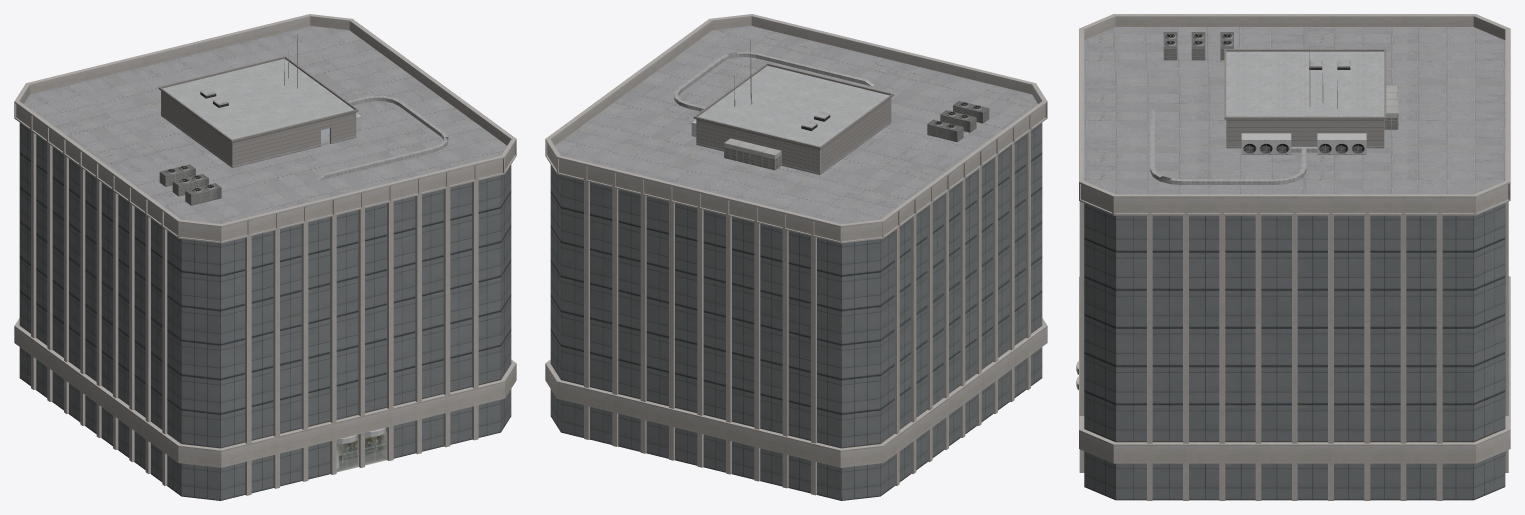
The model's file is office-l4.glb.
The picture shows the model from 3 angles, left to right: view 1: azimuth 30°, elevation 25°; view 2: azimuth 150°, elevation 25°; view 3: azimuth 270°, elevation 25°; orthographic projection. The views are drawn at different scales.
Visible parts, largest first — view 1: AIT01W2W8_AIT01W2W8_0; view 2: AIT01W2W8_AIT01W2W8_0; view 3: AIT01W2W8_AIT01W2W8_0.
Part boxes in pixels (left/top/right/bottom): AIT01W2W8_AIT01W2W8_0: left=14, top=14, right=516, bottom=500; AIT01W2W8_AIT01W2W8_0: left=545, top=14, right=1047, bottom=500; AIT01W2W8_AIT01W2W8_0: left=1076, top=14, right=1510, bottom=500.
Size of the model in its own units: 32.8 by 32.73 by 33.
1 material, 1 textured.
